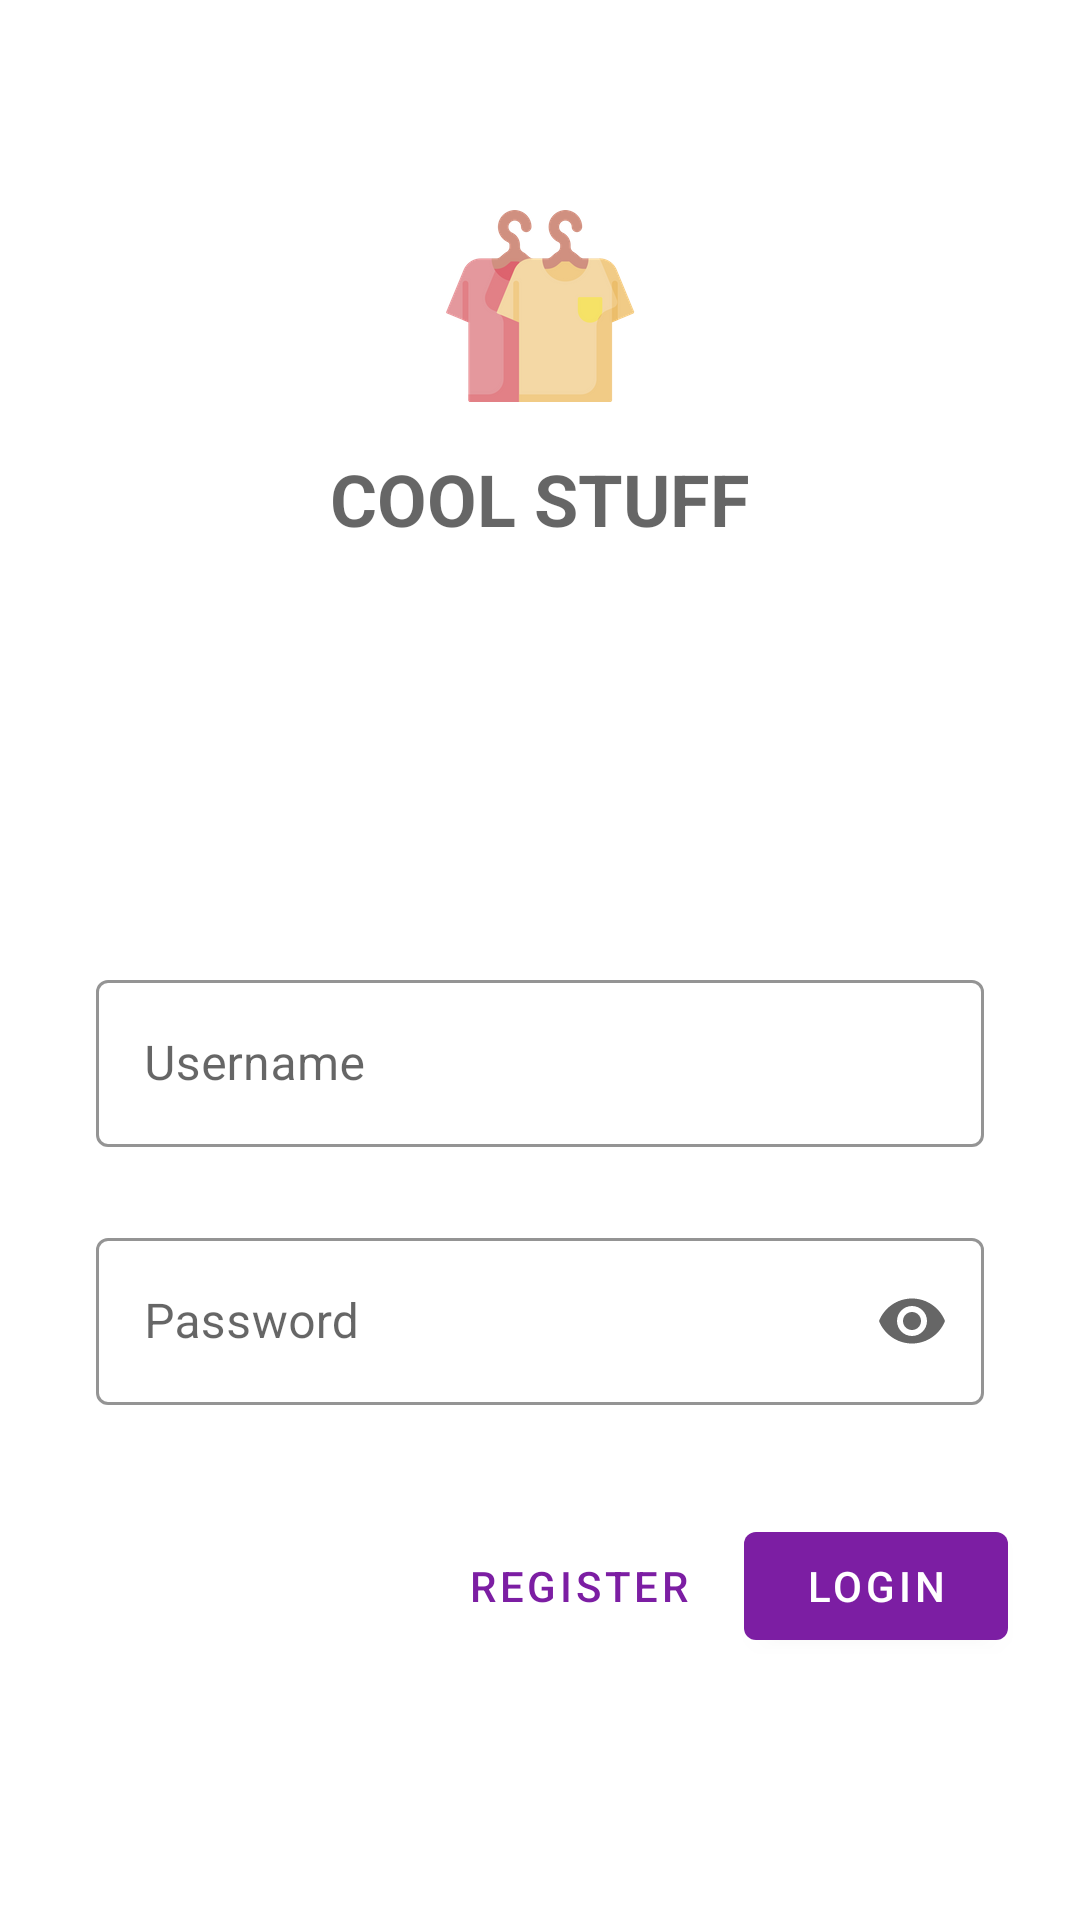

Where to tap for icons on this 1080 × 1920 app screen, as [x,y]:
clothes hanger: [540,306]
